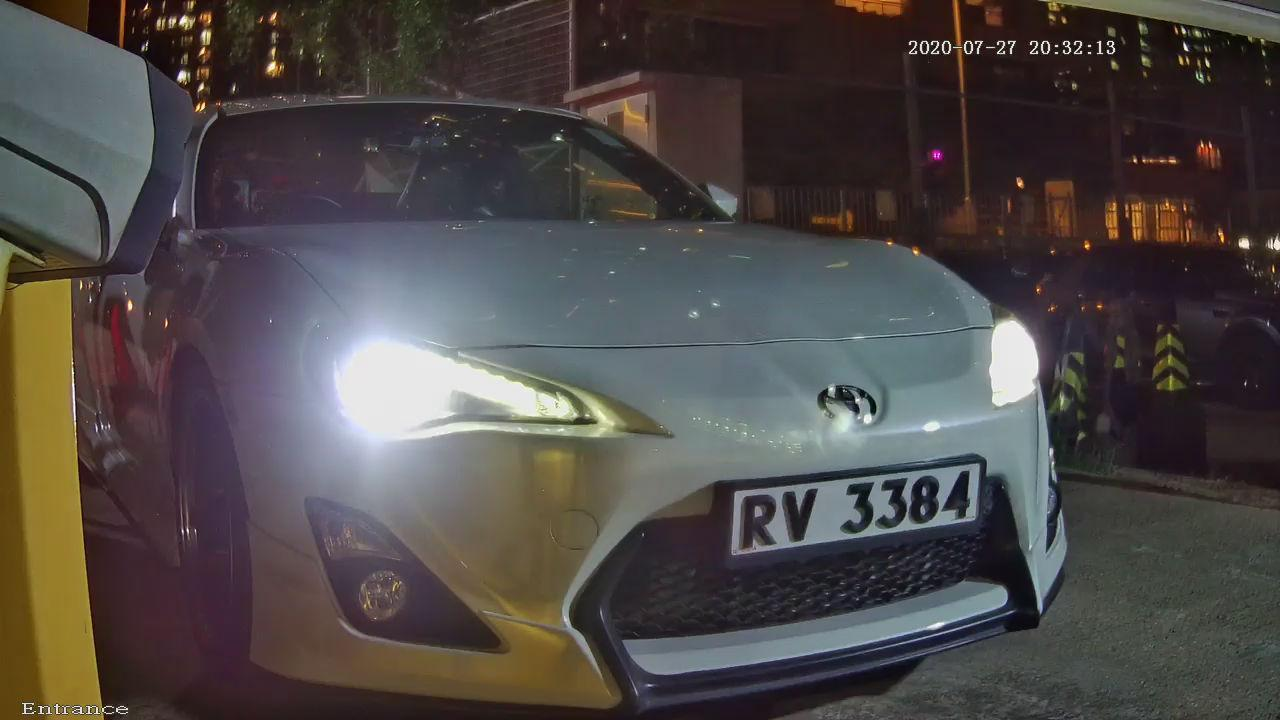privatecar: (109, 36, 1086, 720)
